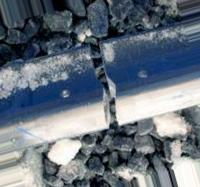tracks_fault: (76, 33, 133, 137)
